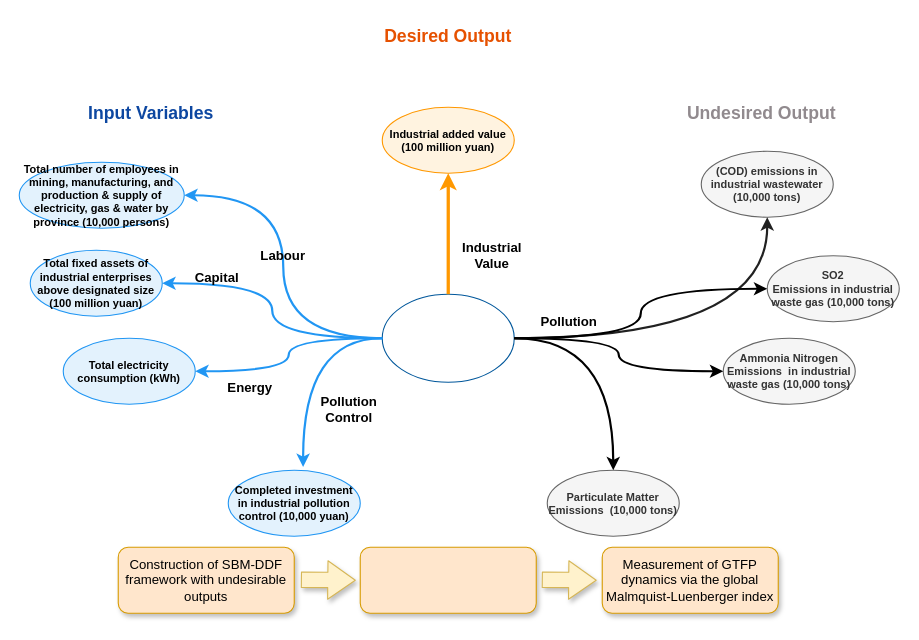
This 919x640 diagram has some shape labels left out. Each missing label, with the centre of its shape:
Estimation of period-specific efficiency score: [449,581]
Evaluation System: [447,337]
